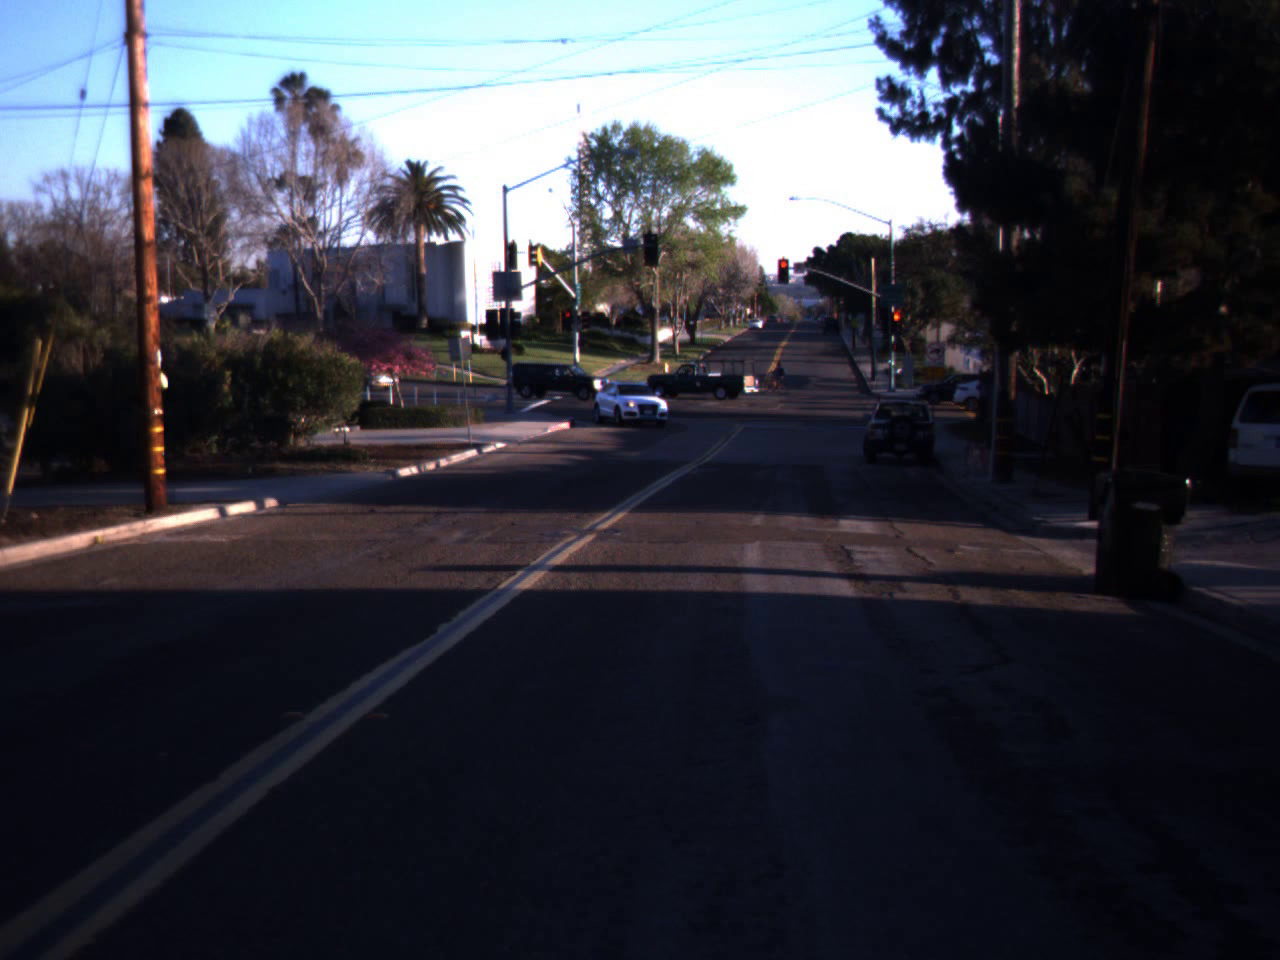stop: (889, 309, 904, 340), (778, 259, 790, 281), (562, 309, 574, 331)
